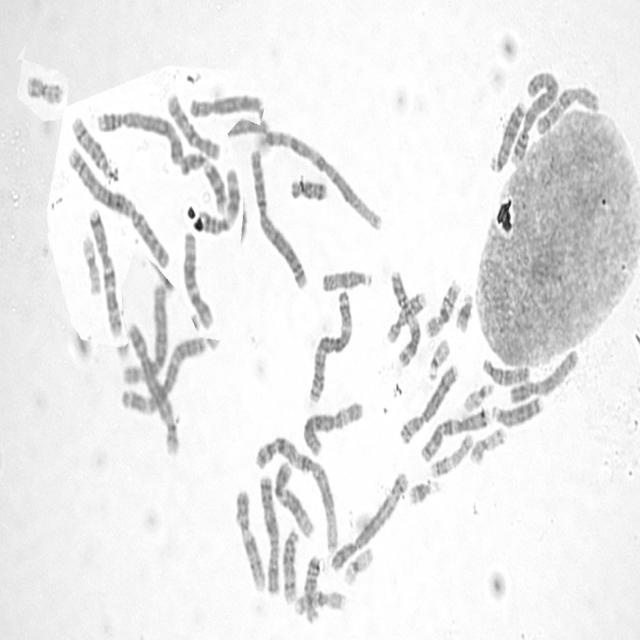A1: (254, 125, 385, 234), (252, 430, 340, 556)
A2: (62, 141, 172, 270), (247, 142, 309, 290)
A3: (118, 329, 208, 416), (304, 284, 354, 406)
B4: (93, 104, 185, 166), (508, 65, 560, 167)
B5: (328, 466, 410, 574), (124, 317, 181, 457)
C10: (164, 88, 222, 162), (533, 80, 600, 137)
C11: (388, 266, 422, 367), (195, 162, 241, 235)
C12: (272, 456, 316, 538), (180, 225, 214, 330)
C6: (119, 278, 169, 388), (298, 395, 364, 458)
C7: (84, 202, 124, 338), (417, 403, 490, 464)
C8: (395, 357, 459, 446), (186, 89, 263, 119)
C9: (232, 486, 266, 592), (177, 147, 228, 214)
D13: (486, 95, 528, 174), (489, 391, 543, 427)
D14: (68, 111, 114, 180), (279, 523, 300, 606)
D15: (478, 352, 530, 387), (318, 263, 374, 294)
E16: (422, 274, 461, 339), (291, 584, 347, 618)
E17: (383, 286, 427, 346), (426, 427, 474, 479)
E18: (302, 550, 321, 625), (286, 172, 328, 202)
F19: (78, 230, 102, 296), (340, 541, 374, 587)
F20: (466, 422, 506, 466), (23, 69, 65, 106)
G21: (404, 474, 440, 507), (452, 288, 474, 334)
G22: (424, 333, 451, 382), (460, 378, 495, 414)
X: (506, 345, 579, 405), (256, 471, 280, 596)
